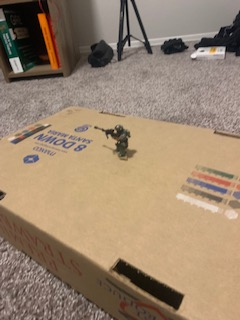soldier: (90, 121, 137, 160)
